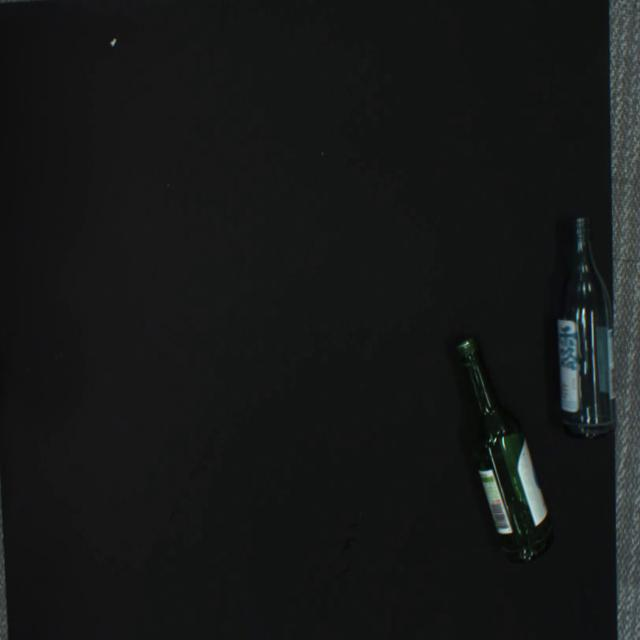soju-bottle: (455, 338, 553, 561), (557, 217, 618, 438)
